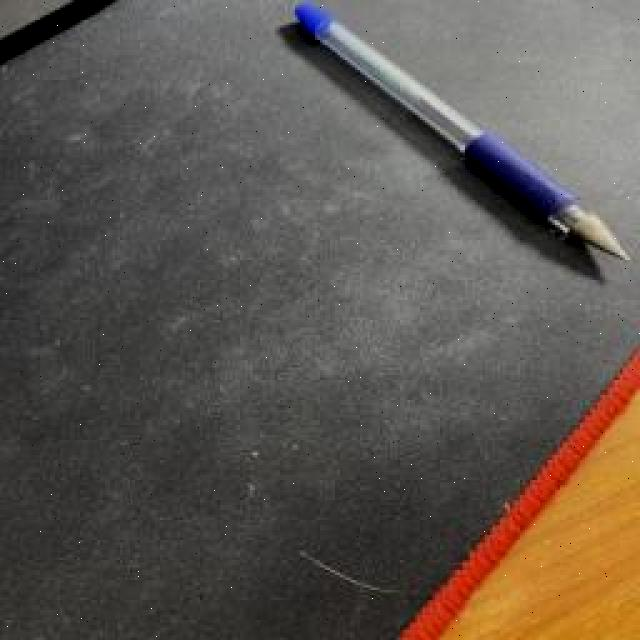pen: (290, 2, 632, 266)
